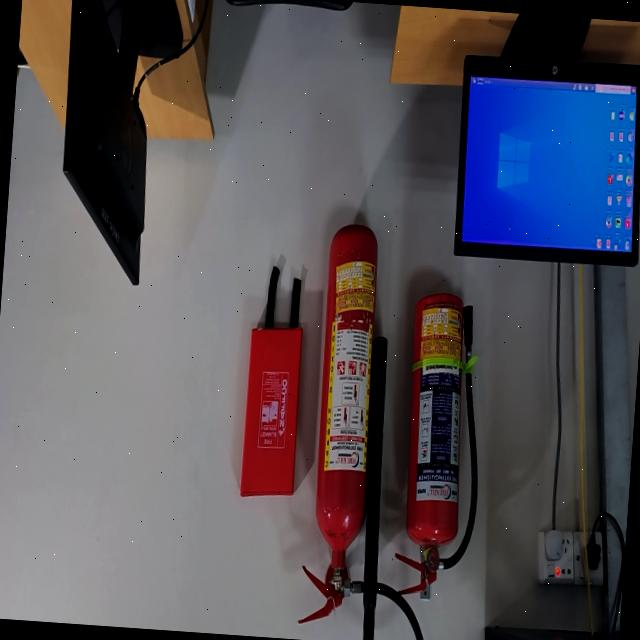Fire Extinguisher: (298, 224, 387, 640), (395, 294, 477, 598)
Monitor: (453, 15, 640, 266), (63, 0, 186, 284)
